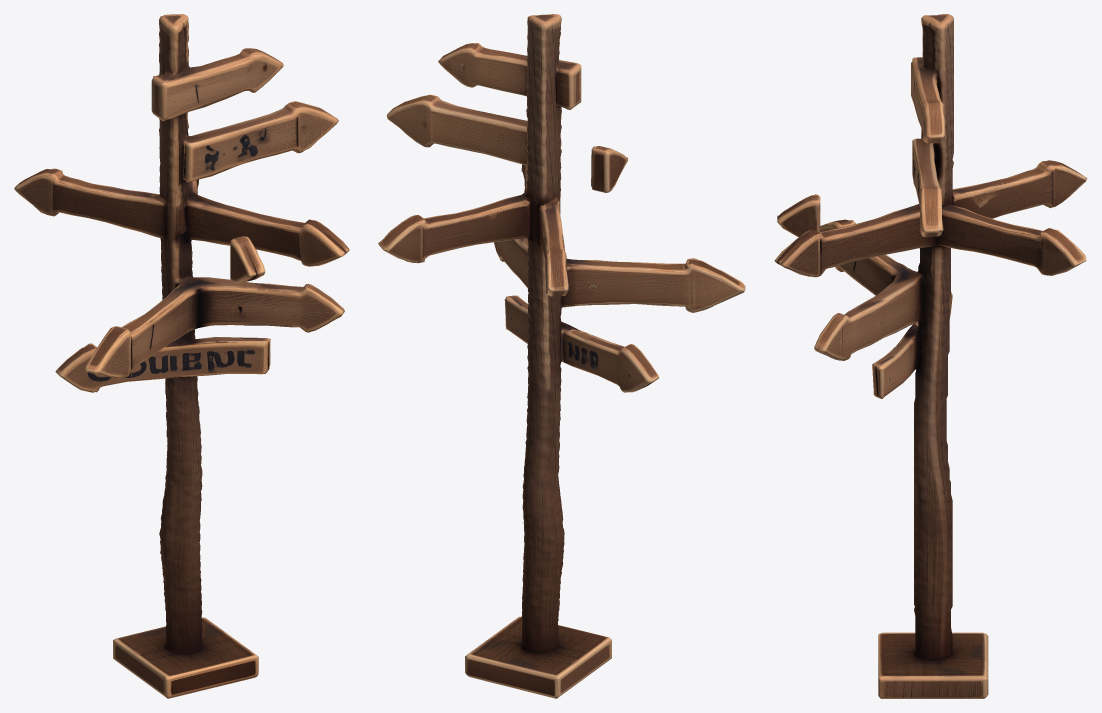
The model's file is board_grim_signpost.glb.
3 views of the same model, side by side, from view 1: azimuth 30°, elevation 25°; view 2: azimuth 150°, elevation 25°; view 3: azimuth 270°, elevation 25° (orthographic).
Size of the model in its own units: 0.9651 by 2 by 0.8665.
Materials: 1 (1 with a texture image).
